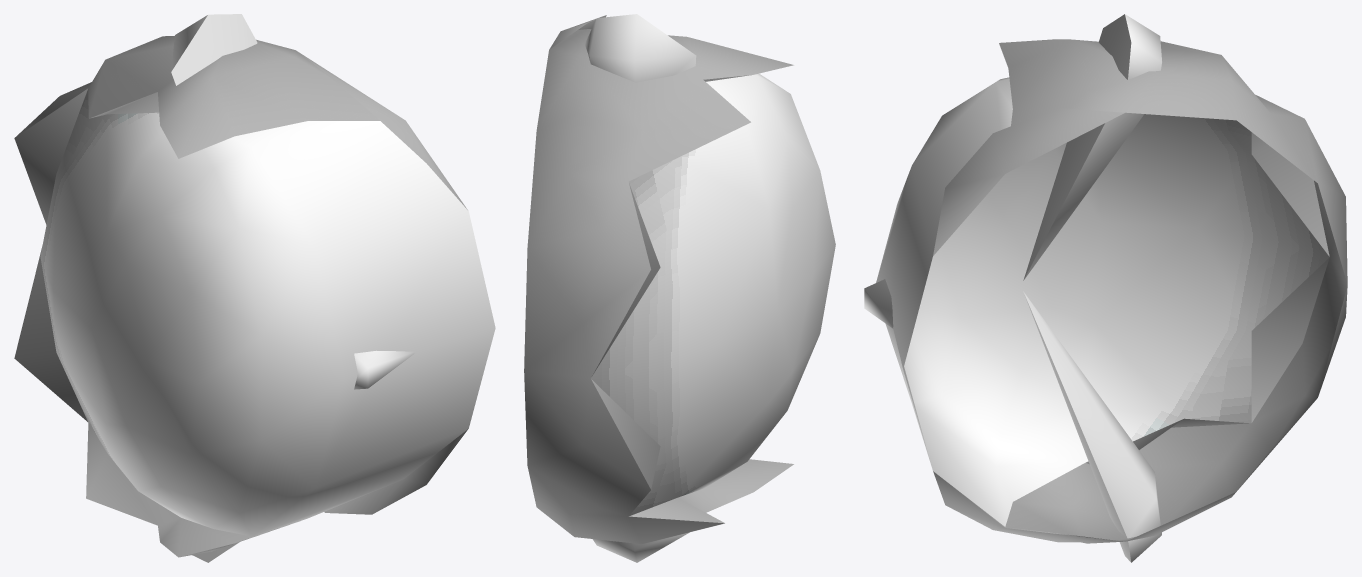
File: girl11b.dae
The picture shows the model from 3 angles, left to right: view 1: azimuth 30°, elevation 25°; view 2: azimuth 150°, elevation 25°; view 3: azimuth 270°, elevation 25°; orthographic projection.
Visible parts, largest first — view 1: girl11b; view 2: girl11b; view 3: girl11b.
Part boxes in pixels (box(x1,y1,x2,y2)): girl11b: box(14, 14, 495, 562); girl11b: box(524, 14, 835, 562); girl11b: box(864, 14, 1347, 562).
Bounding box in the file's own units: 15.5 × 26.71 × 21.59.
Materials: 3 (1 with a texture image).
